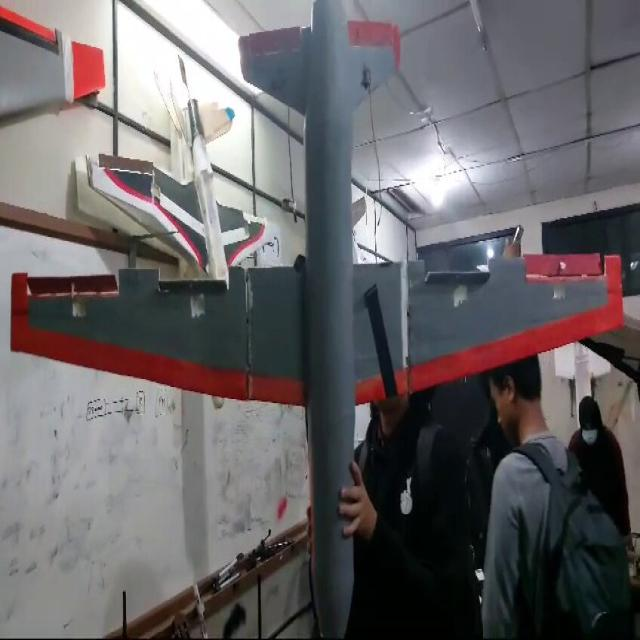plane: (4, 1, 628, 638)
